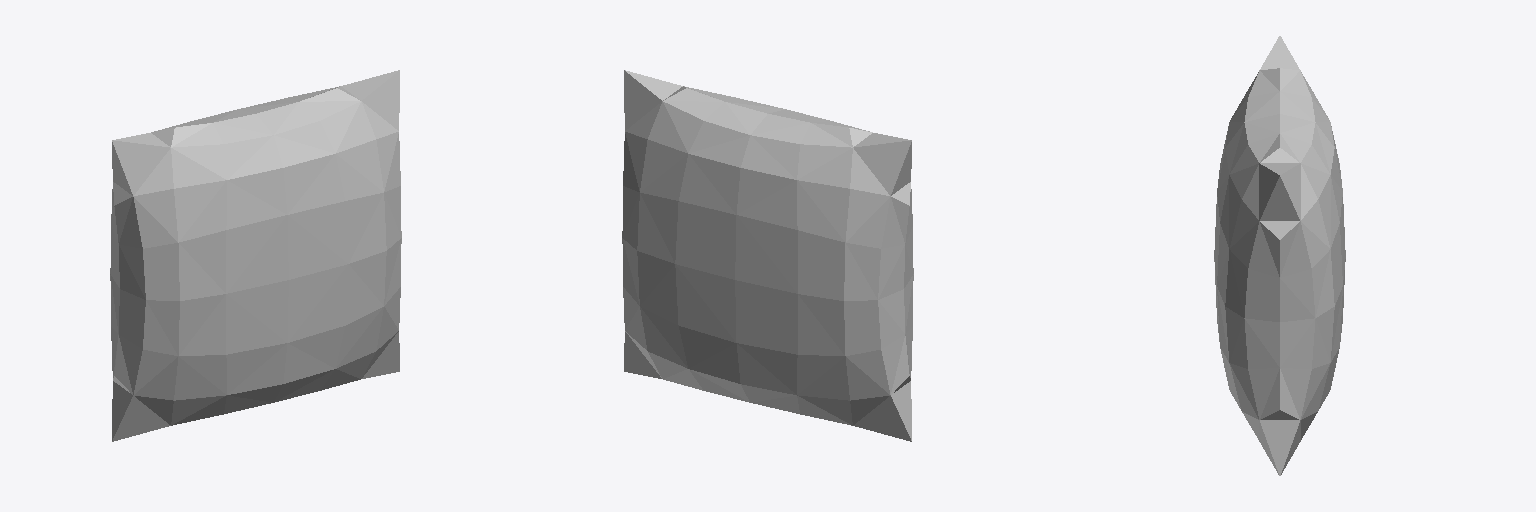
Rendered from 503 Cushions.obj.
The picture shows the model from 3 angles: view 1: azimuth 30°, elevation 25°; view 2: azimuth 150°, elevation 25°; view 3: azimuth 270°, elevation 25°; orthographic projection.
Visible parts, largest first — view 1: Cushion; view 2: Cushion; view 3: Cushion.
Part boxes in pixels (x1,y1,x2,y2): Cushion: (110, 70, 401, 441); Cushion: (622, 70, 913, 441); Cushion: (1214, 36, 1345, 475).
Bounding box in the file's own units: 79.84 × 79.84 × 31.52.